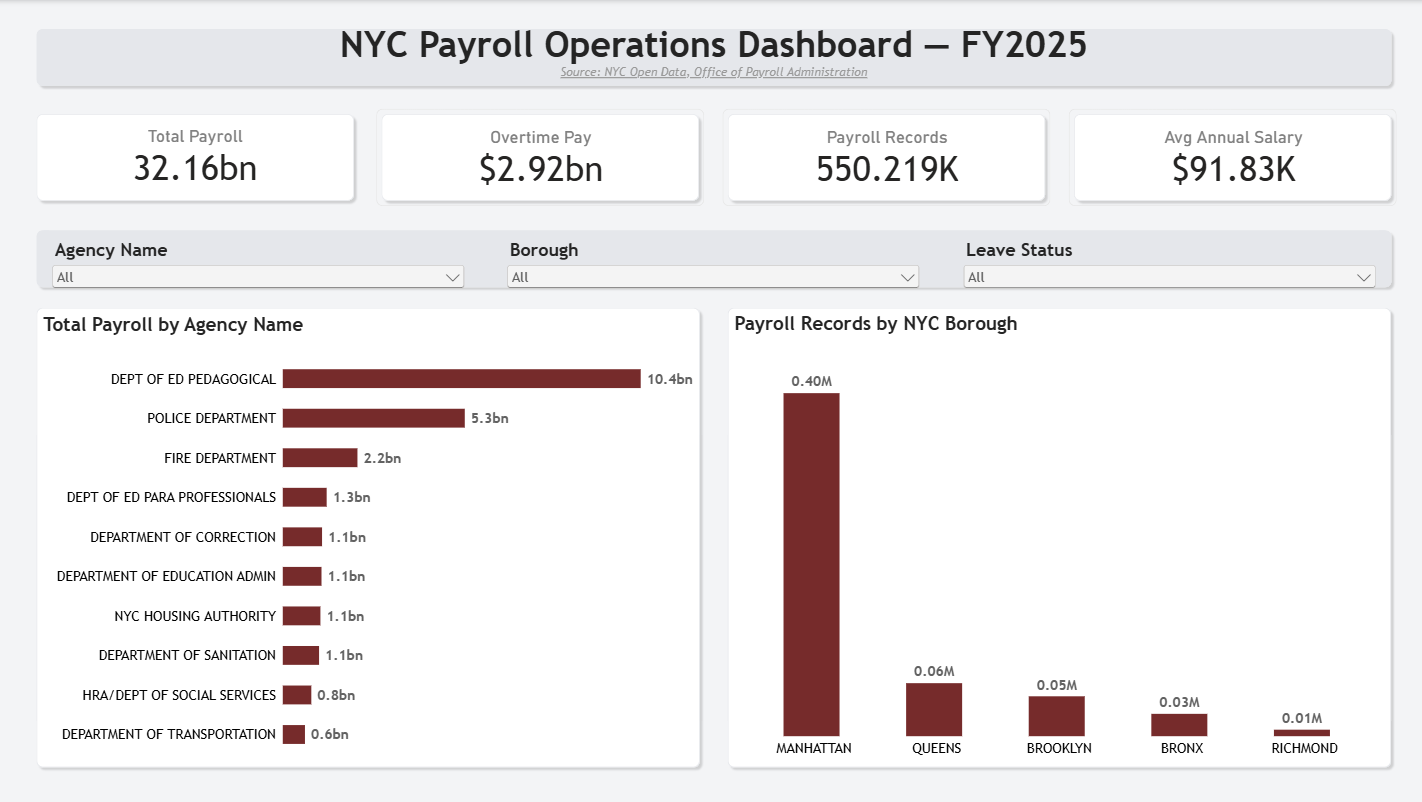

This screenshot's page, from the dashboard's own definition file:
{"tool":"powerbi","page":{"name":"Executive Overview","canvas":[1920,1080],"ordinal":0},"visuals":[{"type":"shape","title":"Text box Shape","box":[48,32,1824,90],"z":9000},{"type":"textbox","box":[47.9,31.3,1823.9,90.2],"z":10000},{"type":"shape","title":"C1 Shape","box":[48,146,438,130],"z":10500},{"type":"shape","title":"C2 Shape","box":[510,146,438,130],"z":11000},{"type":"shape","title":"C3 Shape","box":[972,146,438,130],"z":13000},{"type":"shape","title":"C4 Shape","box":[1434,146,438,130],"z":13500},{"type":"shape","title":"Slicer Shape","box":[48,300,1824,90],"z":13750},{"type":"shape","title":"Chart1 Shape","box":[48,404,900,628],"z":15000},{"type":"shape","title":"Chart2 Shape","box":[972,404,900,628],"z":16031},{"type":"clusteredBarChart","title":"Total Payroll by Agency Name","fields":{"Category":["Payroll.Agency Name"],"Y":["Payroll.Total Payroll"]},"box":[47.9,404.9,900,627.6],"z":17062},{"type":"columnChart","title":"Payroll Records by NYC Borough","fields":{"Category":["Payroll.Borough"],"Y":["Payroll.Payroll Records"]},"box":[971.8,403.1,900,627.6],"z":17125},{"type":"slicer","title":"Slicer1","fields":{"Values":["Payroll.Agency Name"]},"box":[72,319,559.9,72],"z":17187},{"type":"slicer","title":"Slicer2","fields":{"Values":["Payroll.Borough"]},"box":[679.2,319,559.9,72],"z":17250},{"type":"slicer","title":"Slicer3","fields":{"Values":["Payroll.Leave Status"]},"box":[1288.5,319,559.9,72],"z":17375},{"type":"cardVisual","title":"Card1","fields":{"Data":["Payroll.Total Payroll"]},"box":[47.9,145.4,438,130.7],"z":17500},{"type":"cardVisual","title":"Card2","fields":{"Data":["Payroll.Overtime Pay"]},"box":[509.8,145.4,438,130.7],"z":17750},{"type":"cardVisual","title":"Card3","fields":{"Data":["Payroll.Payroll Records"]},"box":[971.8,145.4,438,130.7],"z":18000},{"type":"cardVisual","title":"Card4","fields":{"Data":["Payroll.Avg Annual Salary"]},"box":[1433.7,145.4,438,130.7],"z":19000}]}

Visuals, with their boxes in screenshot pixels (x1, y1, x2, y2), scaled from the page's 1920x1080 canvas onto the 1422x802 screenshot:
"Text box Shape" shape: locate(36, 24, 1386, 91)
textbox: locate(35, 23, 1386, 90)
"C1 Shape" shape: locate(36, 108, 360, 205)
"C2 Shape" shape: locate(378, 108, 702, 205)
"C3 Shape" shape: locate(720, 108, 1044, 205)
"C4 Shape" shape: locate(1062, 108, 1386, 205)
"Slicer Shape" shape: locate(36, 223, 1386, 290)
"Chart1 Shape" shape: locate(36, 300, 702, 766)
"Chart2 Shape" shape: locate(720, 300, 1386, 766)
"Total Payroll by Agency Name" clusteredBarChart: locate(35, 301, 702, 767)
"Payroll Records by NYC Borough" columnChart: locate(720, 299, 1386, 765)
"Slicer1" slicer: locate(53, 237, 468, 290)
"Slicer2" slicer: locate(503, 237, 918, 290)
"Slicer3" slicer: locate(954, 237, 1369, 290)
"Card1" cardVisual: locate(35, 108, 360, 205)
"Card2" cardVisual: locate(378, 108, 702, 205)
"Card3" cardVisual: locate(720, 108, 1044, 205)
"Card4" cardVisual: locate(1062, 108, 1386, 205)
